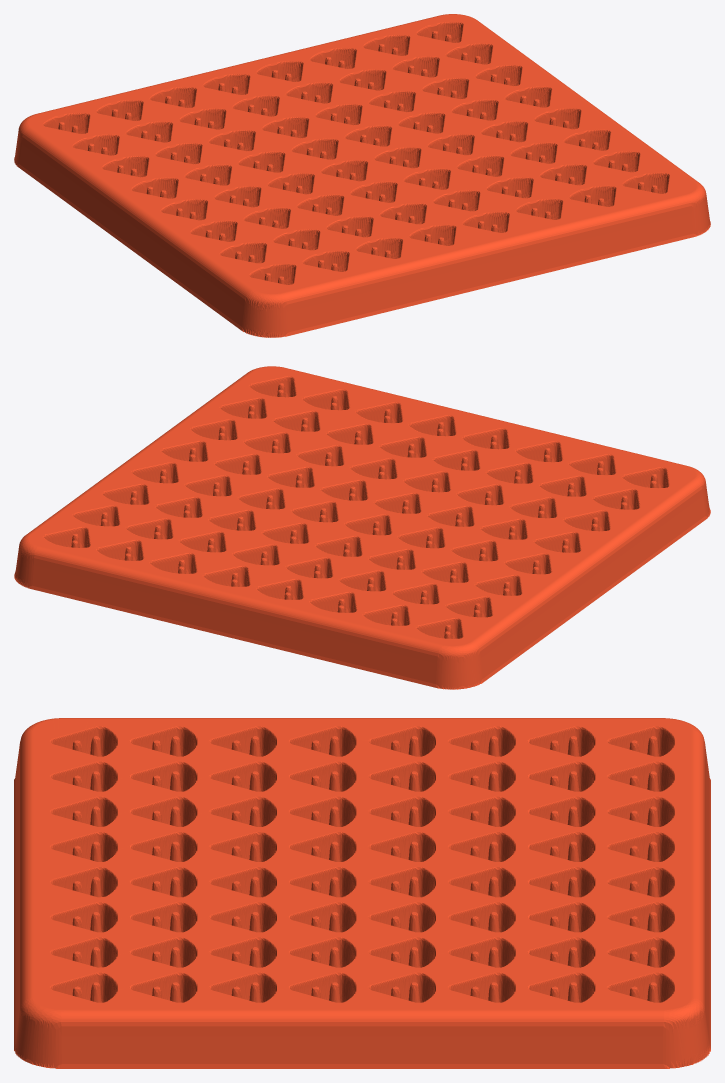
The model's file is mold.glb.
The picture shows the model from 3 angles, top to bottom: view 1: azimuth 30°, elevation 25°; view 2: azimuth 150°, elevation 25°; view 3: azimuth 270°, elevation 25°; orthographic projection. The views are drawn at different scales.
Parts seen in each view (by area): view 1: geometry_0; view 2: geometry_0; view 3: geometry_0.
Boxes of the visible parts, <box> form: geometry_0: <box>14,14,710,337</box>; geometry_0: <box>14,366,710,689</box>; geometry_0: <box>14,718,710,1068</box>.
Bounding box in the file's own units: 0.1355 × 0.0105 × 0.1301.
